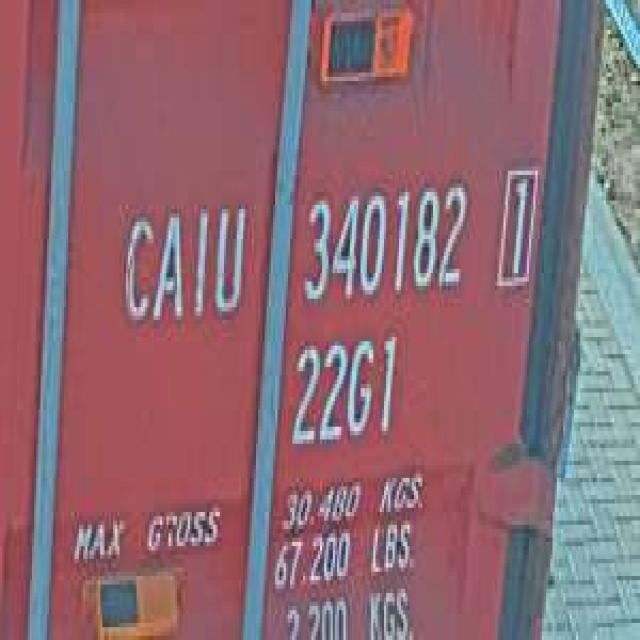dv: (493, 154, 540, 298)
owner: (115, 188, 250, 337)
serial: (296, 170, 472, 312)
size: (286, 328, 399, 456)
